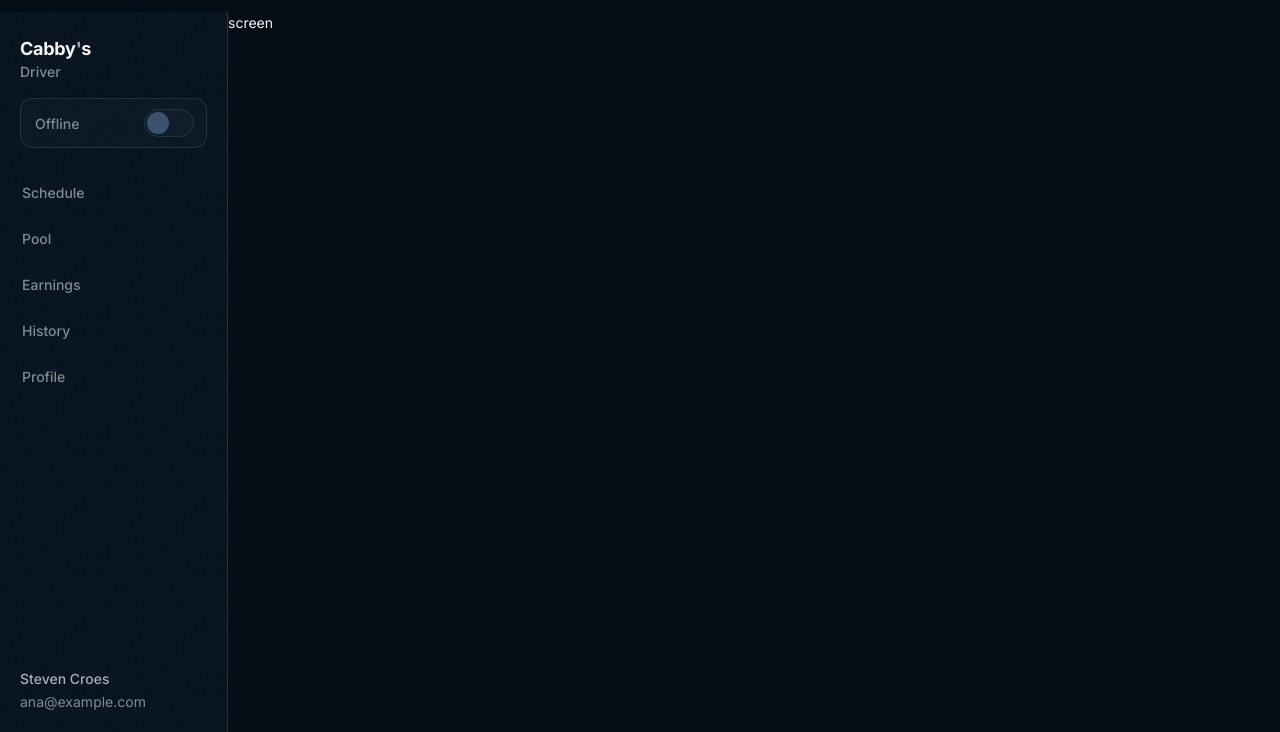
Test: The driver shell › puts the switch back and says so when the write doesn't land
This screenshot has width=1280, height=732.
Click the switch at (169, 123), box [144,109,194,137]
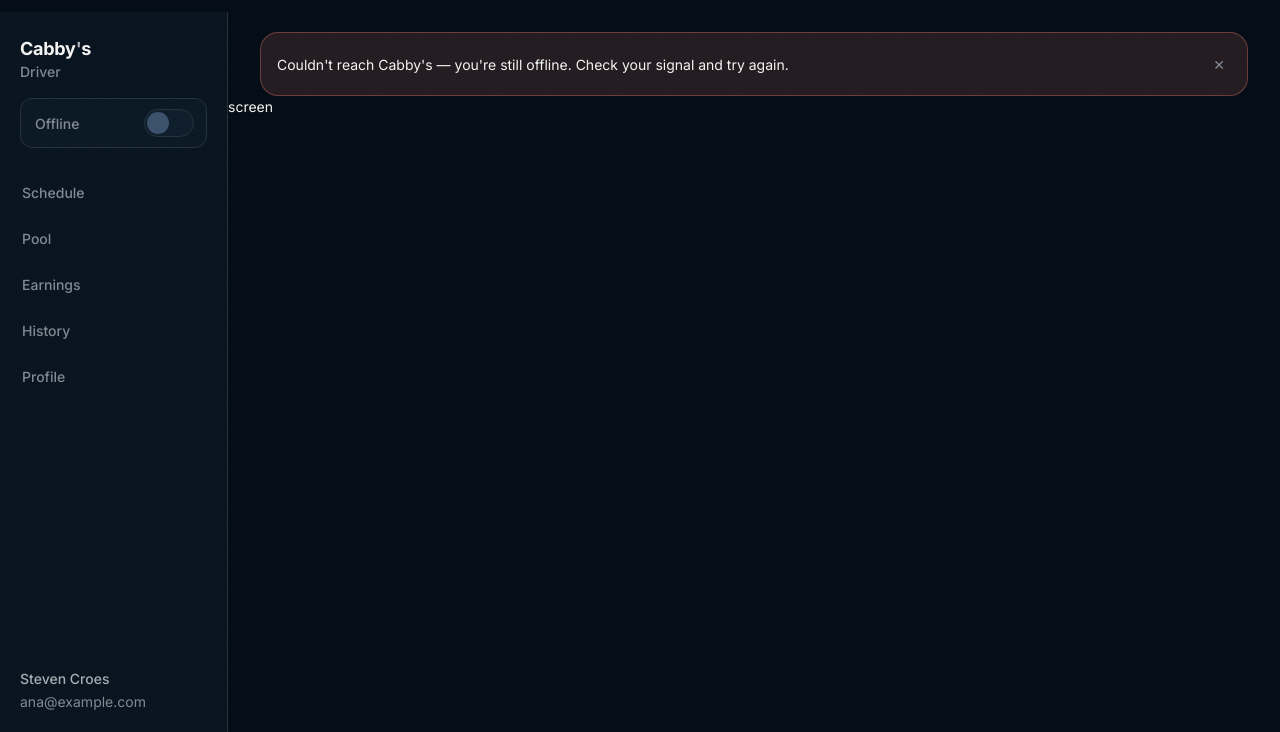
Now the message shows "Couldn't reach Cabby's", box [277,56,526,72]
